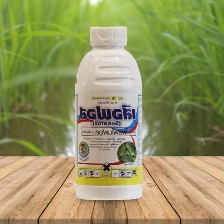insecticide: (72, 22, 145, 204)
